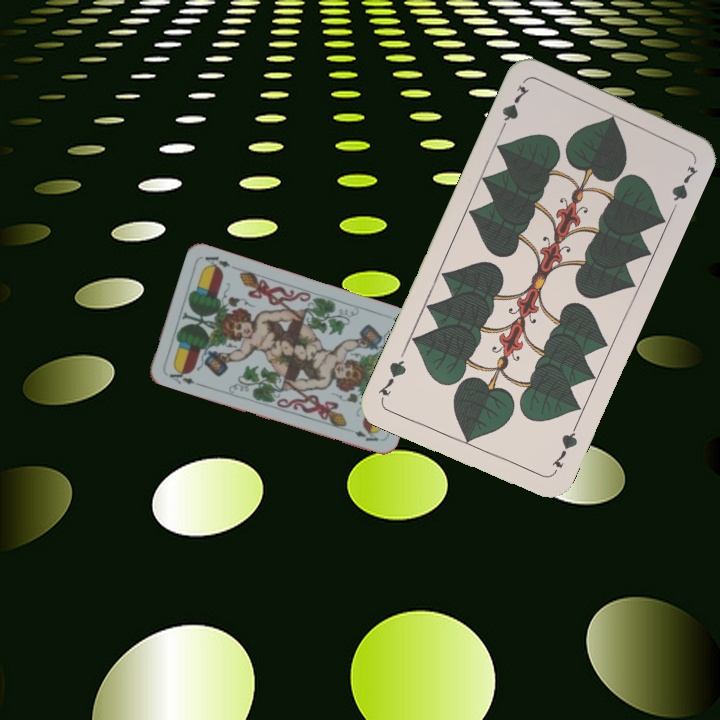EA: (165, 364, 202, 388)
G7: (495, 81, 533, 136), (547, 422, 580, 478)
